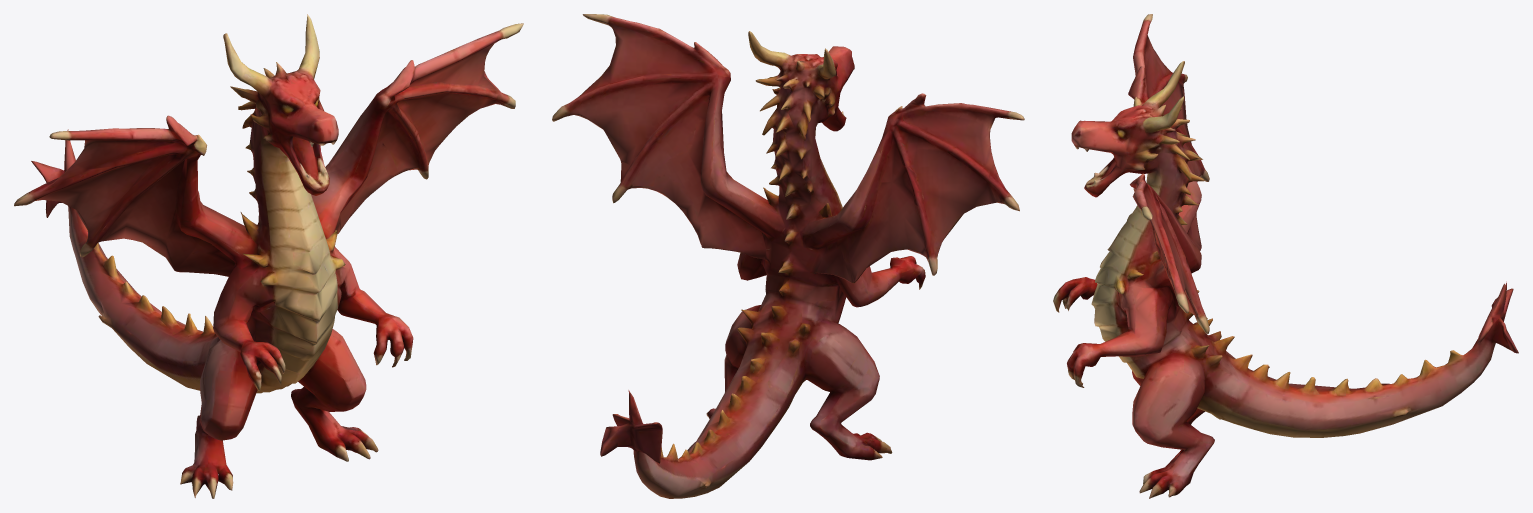
Rendered from roardragon.glb.
The picture shows the model from 3 angles, left to right: view 1: azimuth 30°, elevation 25°; view 2: azimuth 150°, elevation 25°; view 3: azimuth 270°, elevation 25°; orthographic projection. The views are drawn at different scales.
Visible parts, largest first — view 1: tripo_node_67ae7f49; view 2: tripo_node_67ae7f49; view 3: tripo_node_67ae7f49.
Boxes of the visible parts, box(x1,y1,x2,y2) form: tripo_node_67ae7f49: box(14, 14, 523, 498); tripo_node_67ae7f49: box(552, 14, 1024, 498); tripo_node_67ae7f49: box(1053, 14, 1518, 498).
Size of the model in its own units: 99.33 by 82.81 by 91.29.
1 material, 1 textured.
